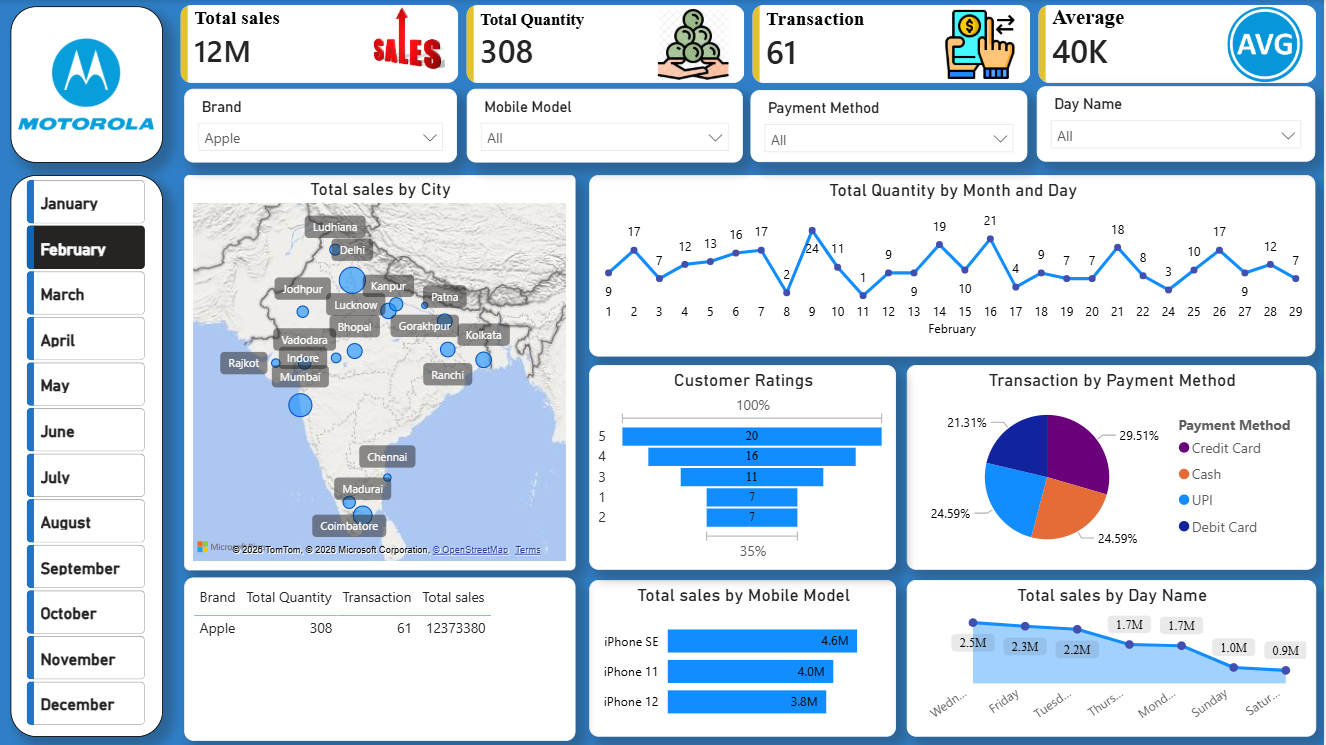

What the dashboard file says about the page in this screenshot:
{"tool":"powerbi","page":{"name":"Page 1","canvas":[1280,720],"ordinal":0},"visuals":[{"type":"shape","box":[12.3,5.5,146.8,150.9],"z":0},{"type":"image","box":[12.3,5.5,145.5,150.9],"z":1000},{"type":"shape","box":[12.3,168.8,146.8,542],"z":2000},{"type":"advancedSlicerVisual","fields":{"Values":["Sales_Data.Date.Variation.Date Hierarchy.Month"]},"box":[23.3,168.8,124.9,542],"z":3000},{"type":"cardVisual","fields":{"Data":["Sales_Data.Total sales","Sales_Data.Total Quantity","Sales_Data.Transaction","Sales_Data.Average"]},"box":[171.5,0,1108.8,85.1],"z":4000},{"type":"map","fields":{"Category":["Sales_Data.City"],"Size":["Sales_Data.Total sales"]},"box":[179.8,168.8,377.4,381.5],"z":5000},{"type":"lineChart","fields":{"Y":["Sales_Data.Total Quantity"],"Category":["Sales_Data.Date.Variation.Date Hierarchy.Month","Sales_Data.Date.Variation.Date Hierarchy.Day"]},"box":[570.6,168.9,700.9,174.9],"z":6000},{"type":"clusteredBarChart","fields":{"Category":["Sales_Data.Mobile Model"],"Y":["Sales_Data.Total sales"]},"box":[570.8,559.9,296.4,150.9],"z":7000},{"type":"pieChart","fields":{"Y":["Sales_Data.Transaction"],"Category":["Sales_Data.Payment Method"]},"box":[876.8,352.7,395.2,197.6],"z":8000},{"type":"funnel","title":"Customer Ratings","fields":{"Category":["Sales_Data.Customer Ratings"],"Y":["CountNonNull(Sales_Data.Customer Ratings)"]},"box":[570.8,352.7,296.4,197.6],"z":9000},{"type":"areaChart","fields":{"Y":["Sales_Data.Total sales"],"Category":["Sales_Data.Day Name"]},"box":[876.8,559.9,395.2,150.9],"z":10000},{"type":"tableEx","fields":{"Values":["Sales_Data.Brand","Sales_Data.Total Quantity","Sales_Data.Transaction","Sales_Data.Total sales"]},"box":[179.8,557.1,377.4,157.8],"z":11000},{"type":"slicer","fields":{"Values":["Sales_Data.Brand"]},"box":[179.8,85.1,263.5,71.4],"z":11001},{"type":"slicer","fields":{"Values":["Sales_Data.Mobile Model"]},"box":[452.8,85.1,266.2,71.4],"z":11002},{"type":"slicer","fields":{"Values":["Sales_Data.Payment Method"]},"box":[725.9,86.4,267.6,70],"z":11003},{"type":"slicer","fields":{"Values":["Sales_Data.Day Name"]},"box":[1003.1,83.7,269,72.7],"z":11004}]}

Visuals, with their boxes in screenshot pixels (x1, y1, x2, y2), scaled from the page's 1280x720 canvas onto the 1326x745 screenshot:
shape: l=13, t=6, r=165, b=162
image: l=13, t=6, r=163, b=162
shape: l=13, t=175, r=165, b=735
advancedSlicerVisual - Sales_Data.Date.Variation.Date Hierarchy.Month: l=24, t=175, r=154, b=735
cardVisual - Sales_Data.Total sales x Sales_Data.Total Quantity: l=178, t=0, r=1325, b=88
map - Sales_Data.City x Sales_Data.Total sales: l=186, t=175, r=577, b=569
lineChart - Sales_Data.Total Quantity x Sales_Data.Date.Variation.Date Hierarchy.Month: l=591, t=175, r=1317, b=356
clusteredBarChart - Sales_Data.Mobile Model x Sales_Data.Total sales: l=591, t=579, r=898, b=735
pieChart - Sales_Data.Transaction x Sales_Data.Payment Method: l=908, t=365, r=1318, b=569
"Customer Ratings" funnel: l=591, t=365, r=898, b=569
areaChart - Sales_Data.Total sales x Sales_Data.Day Name: l=908, t=579, r=1318, b=735
tableEx - Sales_Data.Brand x Sales_Data.Total Quantity: l=186, t=576, r=577, b=740
slicer - Sales_Data.Brand: l=186, t=88, r=459, b=162
slicer - Sales_Data.Mobile Model: l=469, t=88, r=745, b=162
slicer - Sales_Data.Payment Method: l=752, t=89, r=1029, b=162
slicer - Sales_Data.Day Name: l=1039, t=87, r=1318, b=162
